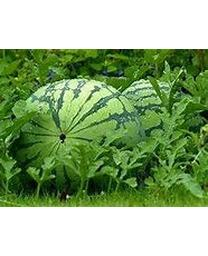watermelon: (13, 78, 148, 193)
